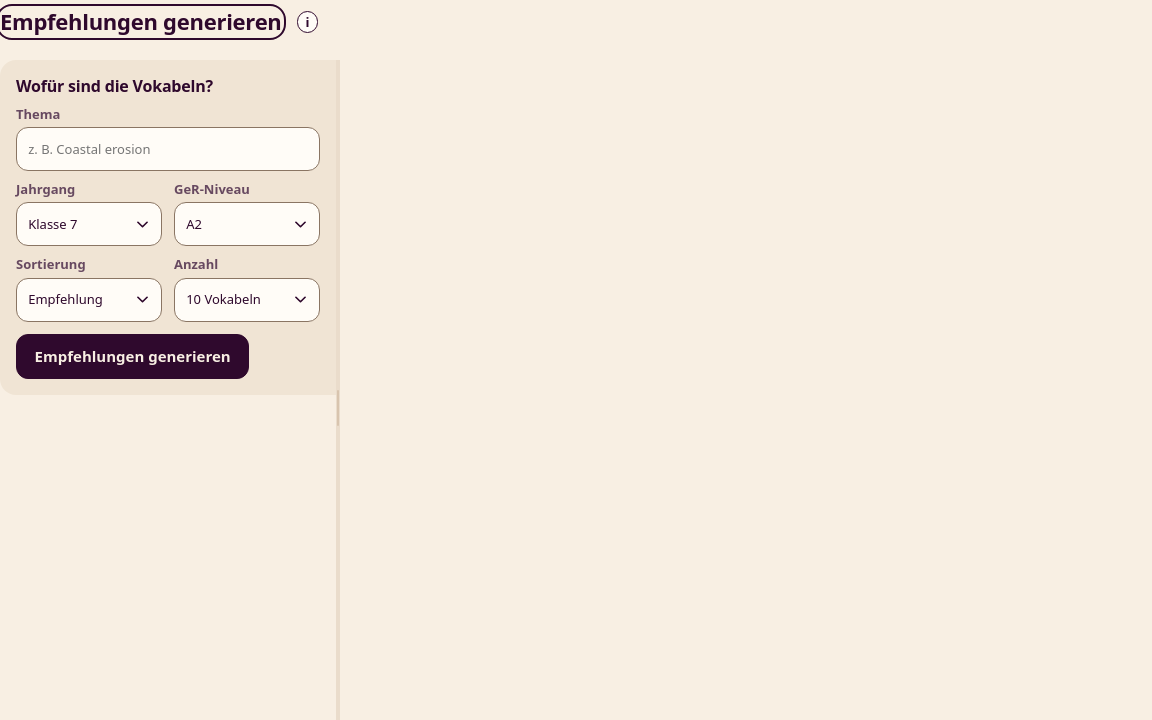
Eine bewusst geleerte Zeile füllt sich nicht von selbst wieder › nimmt einen späten Modellvorschlag als Angebot an, nicht als Antwort
Expected: the button "Empfehlungen generieren" is enabled, [16,334,249,379]
Select "20 Vokabeln" in the dropdown labelled "Anzahl" at point(247, 300), box [174,278,320,322]
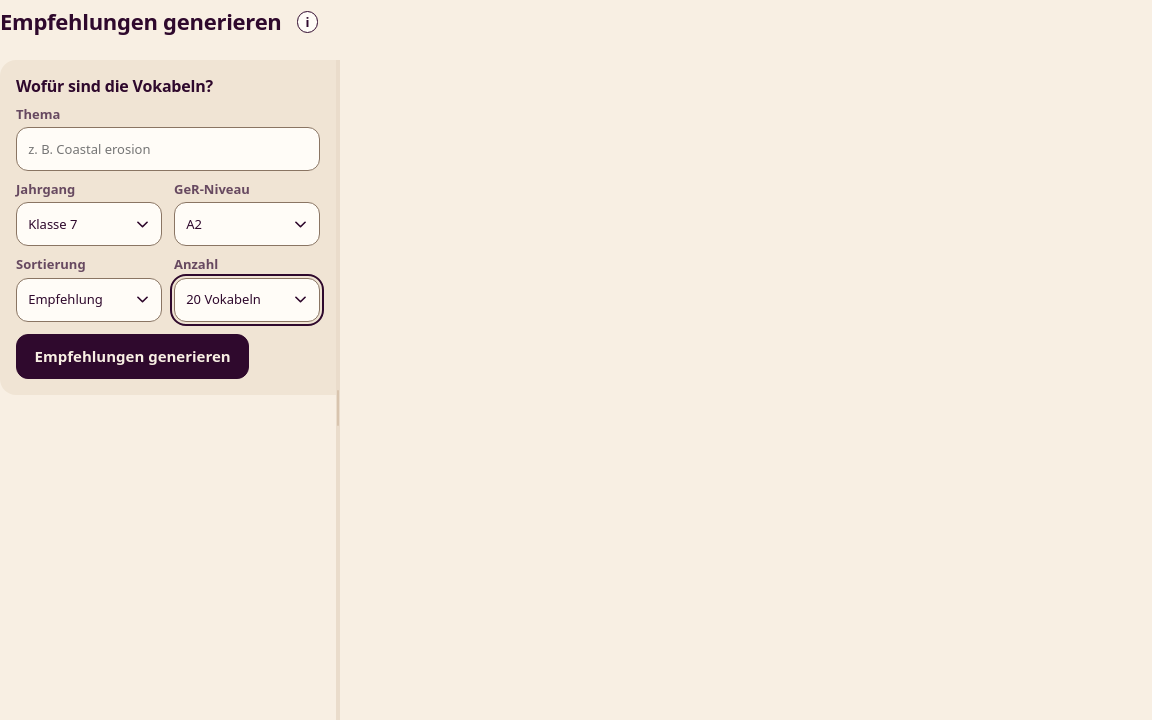
Click the button "Empfehlungen generieren".
click(133, 356)  # box [16,334,249,379]
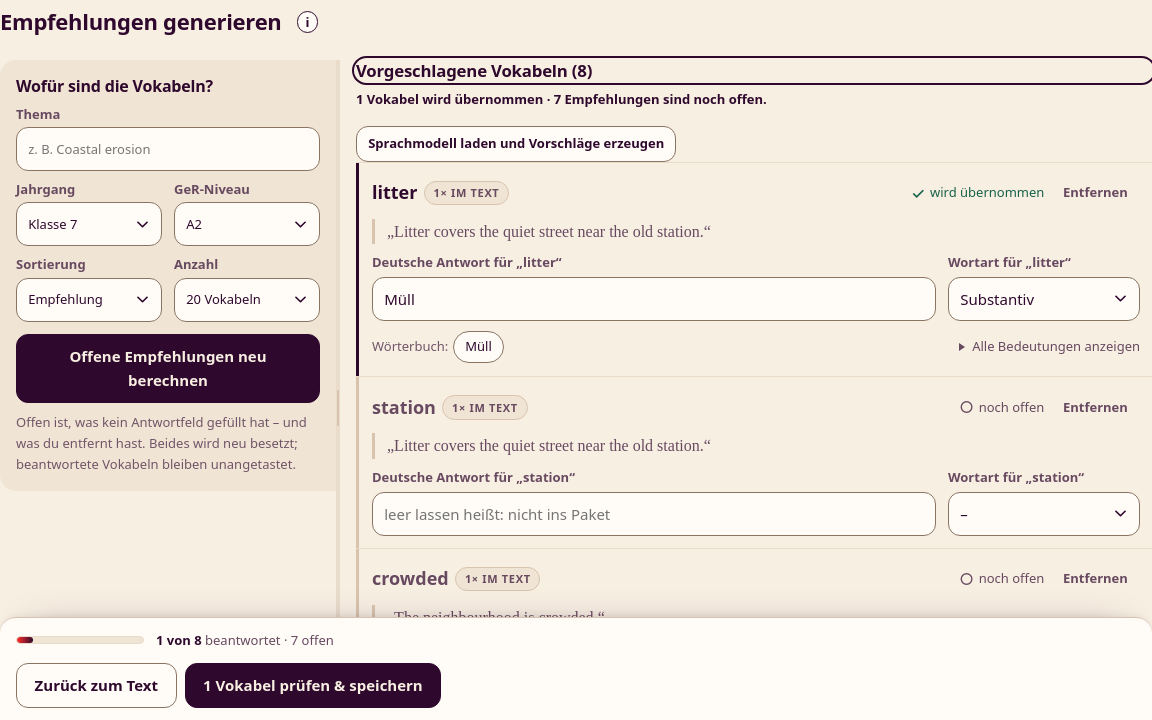
Clear the field labelled "Deutsche Antwort für „litter“" at point(654, 299), box [372,277,936,321]
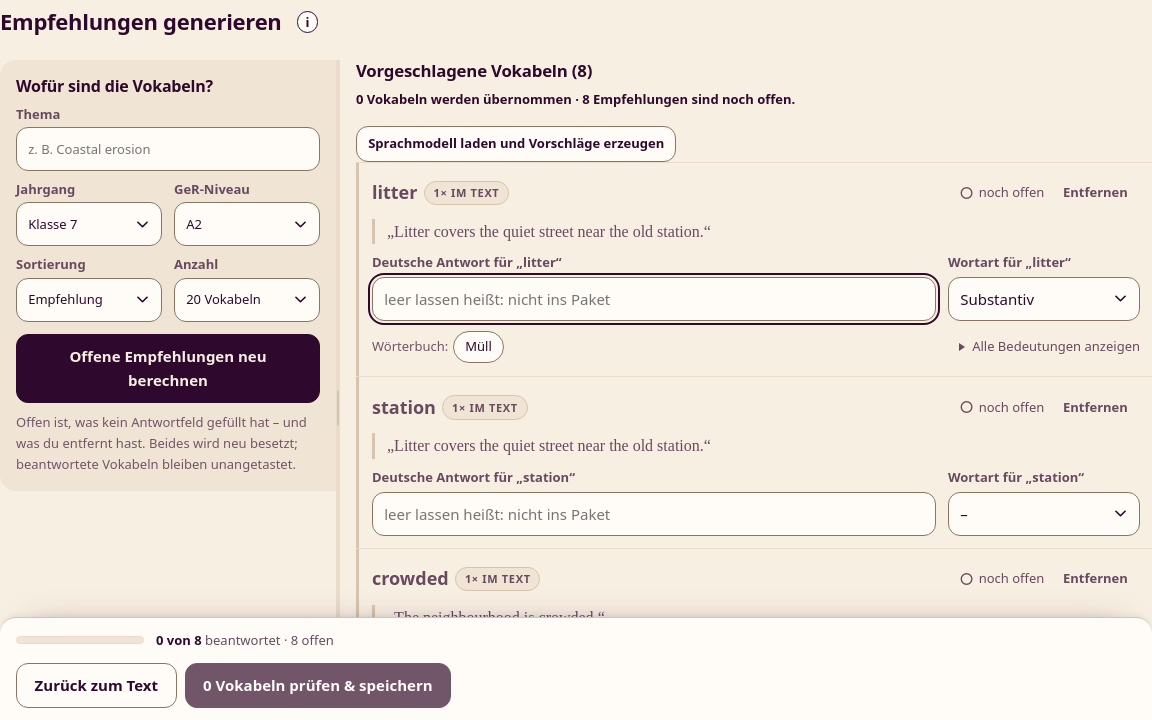
Click the button "Sprachmodell laden und Vorschläge erzeugen".
click(516, 144)  # box [356,126,676,162]
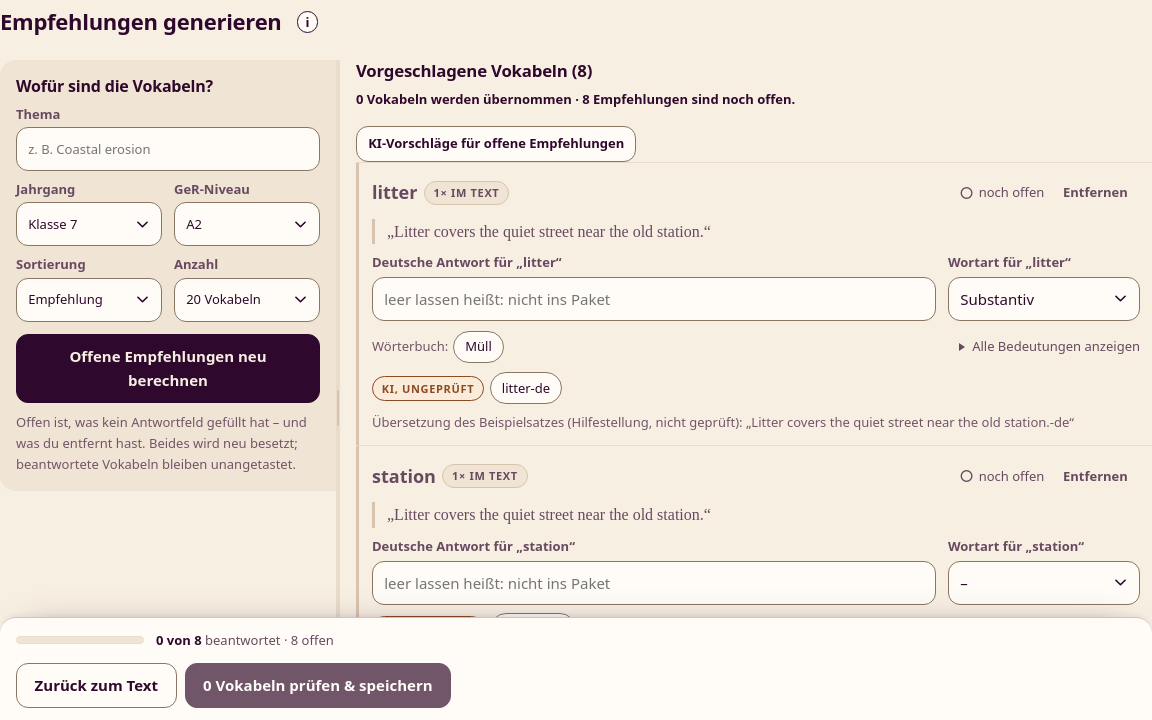
Now the button with aria-label "Vorschlag „litter-de“" is shown, box [490,372,562,404]
